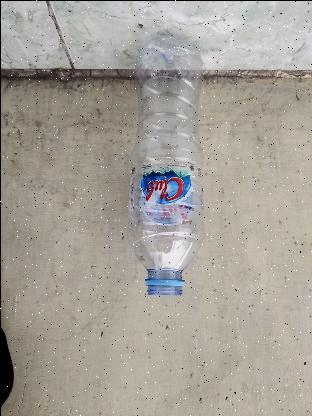Plastic Bottle: (126, 34, 204, 296)
